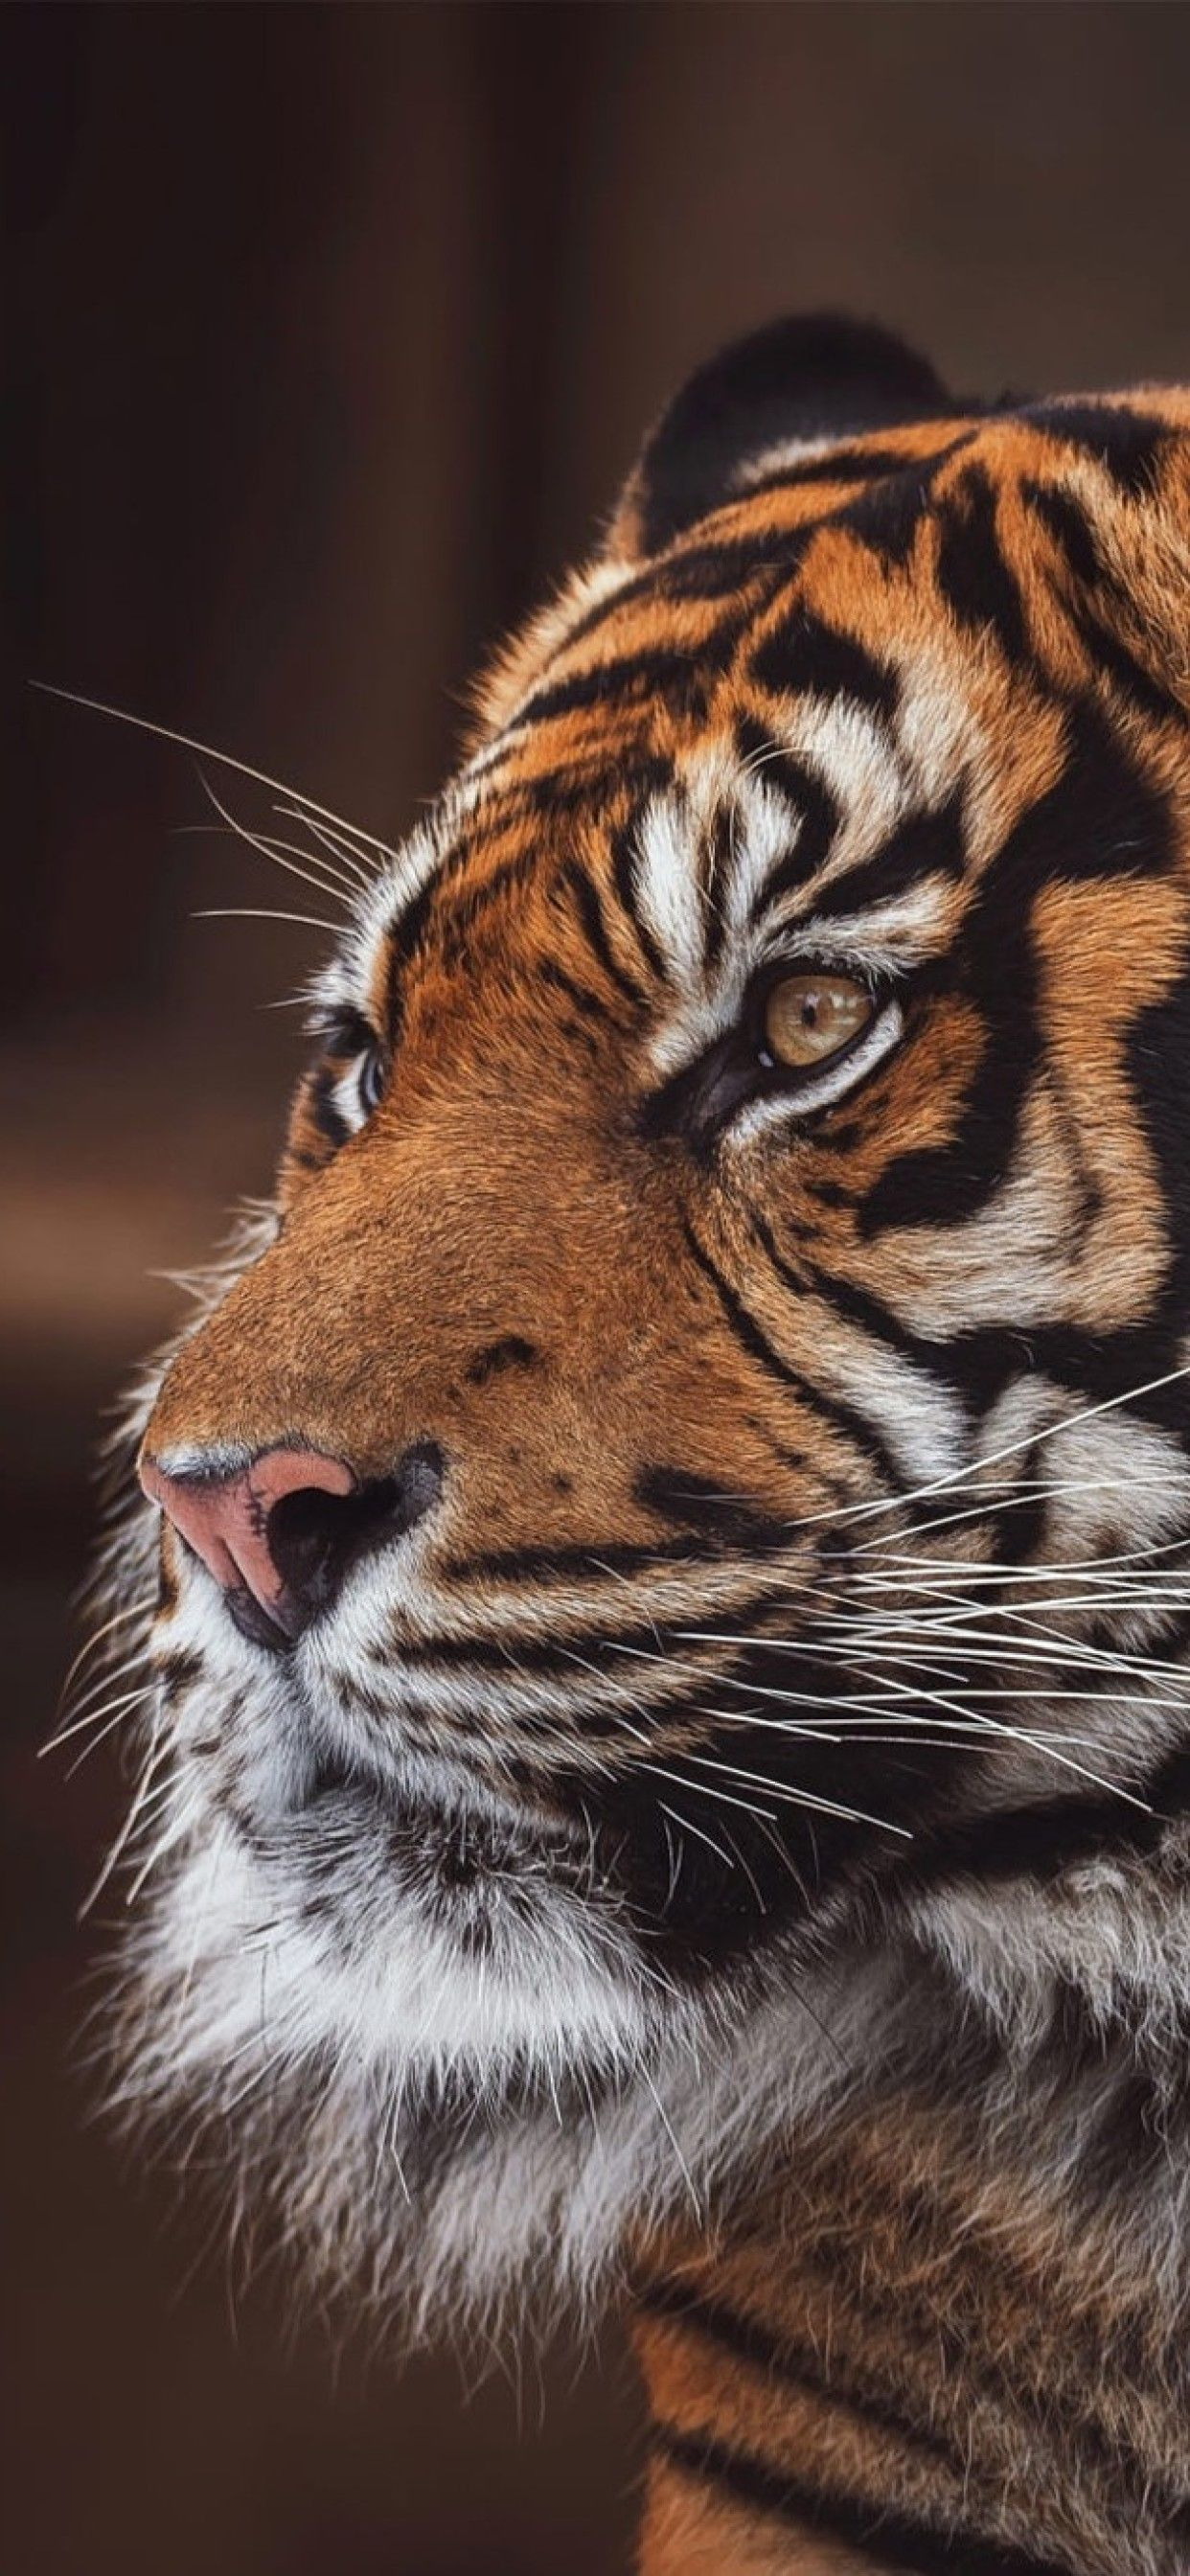Tigrew: (82, 199, 1180, 2423)
